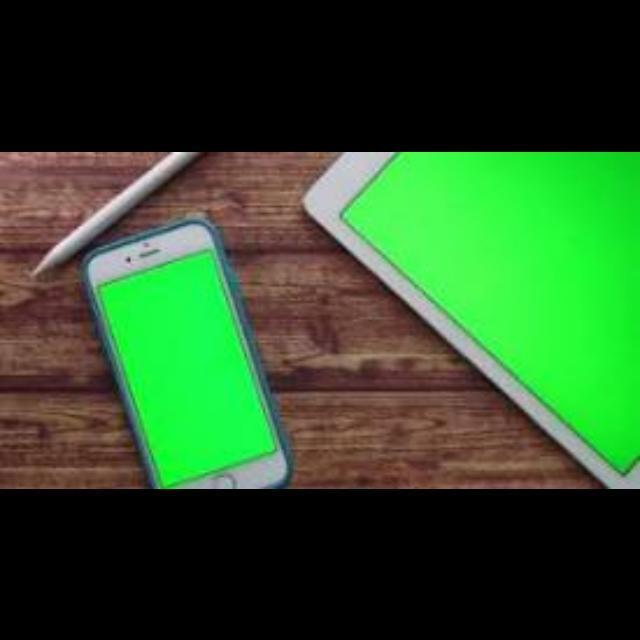phone: (59, 206, 308, 489)
